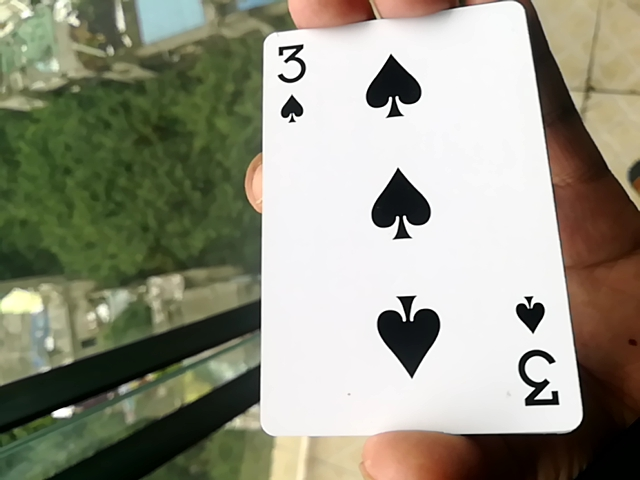ht 3: (236, 18, 581, 443)
